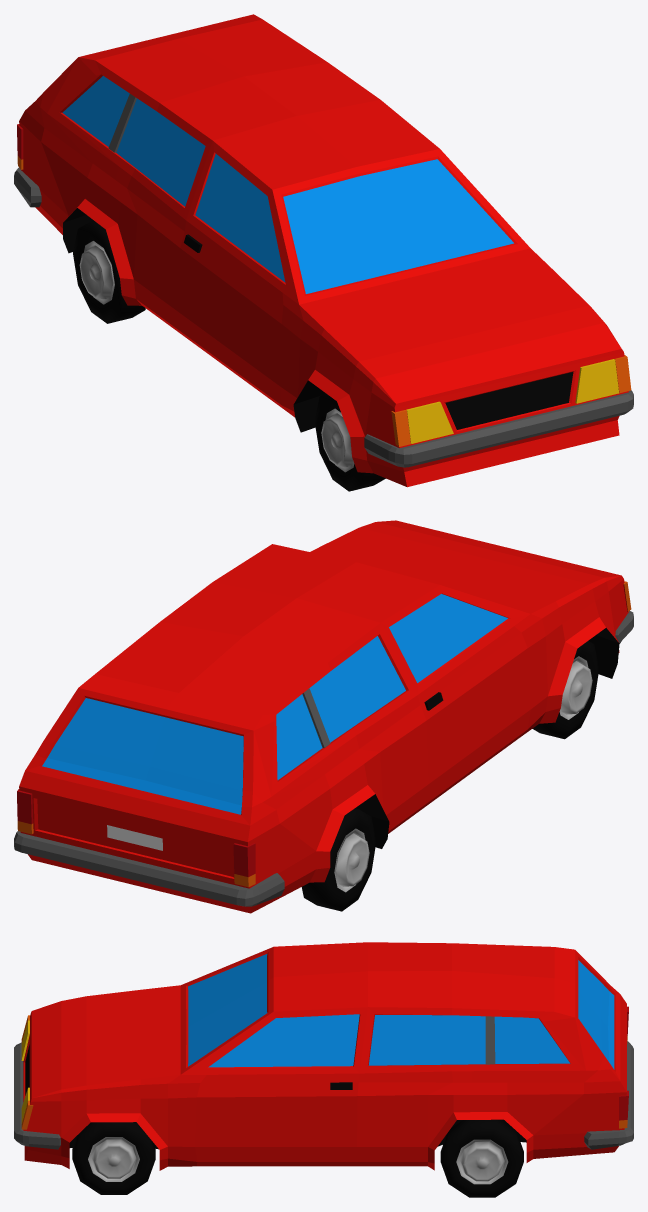
The model's file is kombi.fbx.
3 renders of one model, top to bottom at view 1: azimuth 30°, elevation 25°; view 2: azimuth 150°, elevation 25°; view 3: azimuth 270°, elevation 25°, orthographic. The views are drawn at different scales.
Parts seen in each view (by area): view 1: Combi, Wheel1fr, Wheel1rr; view 2: Combi, Wheel1fr, Wheel1rr; view 3: Combi, Wheel1fl, Wheel1rl.
Part boxes in pixels (box(x1,y1,x2,y2)): Combi: box(14, 14, 633, 487); Wheel1fr: box(73, 220, 145, 323); Wheel1rr: box(314, 393, 385, 491); Combi: box(14, 520, 633, 913); Wheel1fr: box(301, 808, 376, 911); Wheel1rr: box(532, 641, 599, 739); Combi: box(14, 942, 633, 1170); Wheel1fl: box(440, 1119, 523, 1197); Wheel1rl: box(72, 1122, 155, 1194).
Size of the model in its own units: 128 by 102 by 323.
